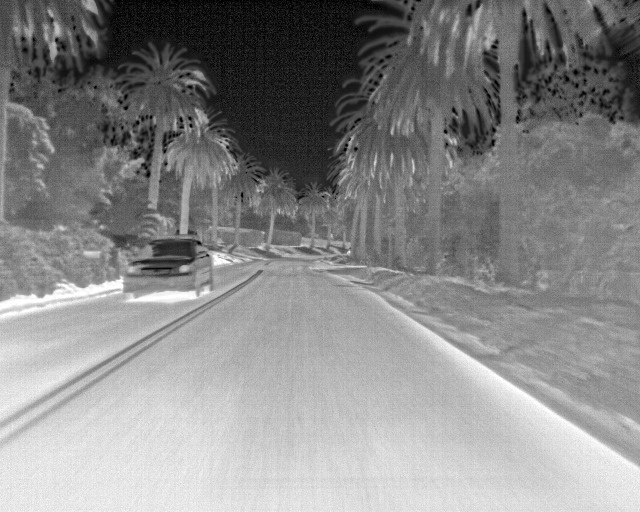vehicle: (120, 238, 214, 305)
